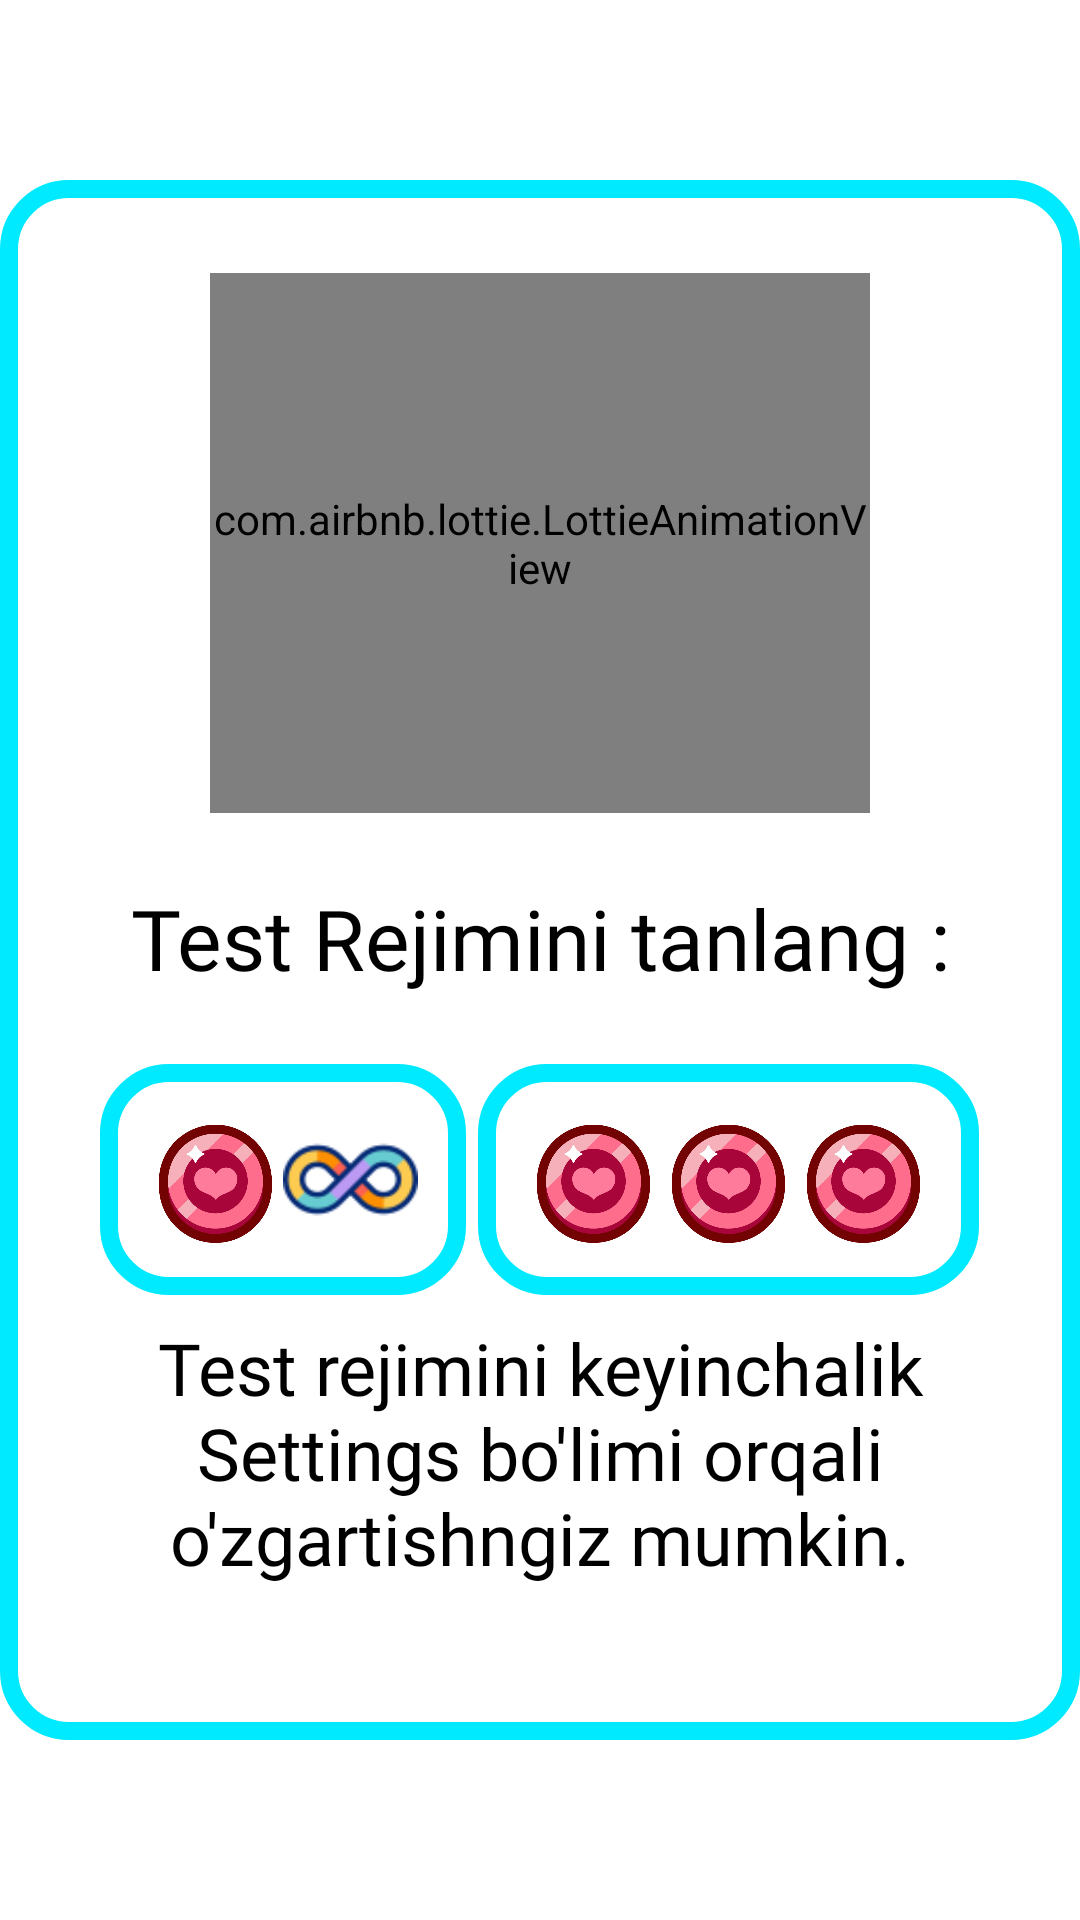

Icon bounding boxes for this 1080x1920 phone screenshot, format {"x1": x1, "y1": y1, "x2": x2, "y2": y2}:
heart: {"x1": 159, "y1": 1125, "x2": 272, "y2": 1243}, {"x1": 537, "y1": 1125, "x2": 650, "y2": 1243}, {"x1": 672, "y1": 1125, "x2": 785, "y2": 1243}, {"x1": 807, "y1": 1125, "x2": 920, "y2": 1243}
infinity: {"x1": 283, "y1": 1143, "x2": 418, "y2": 1216}
